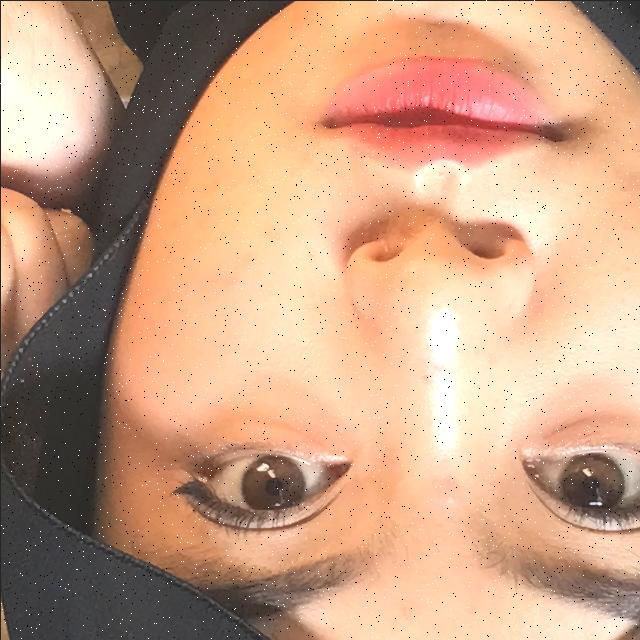ibu: (0, 0, 200, 454)
